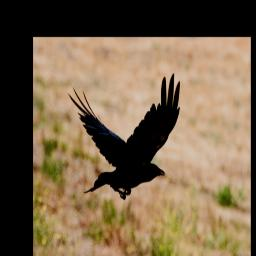Crow: (67, 72, 183, 201)
